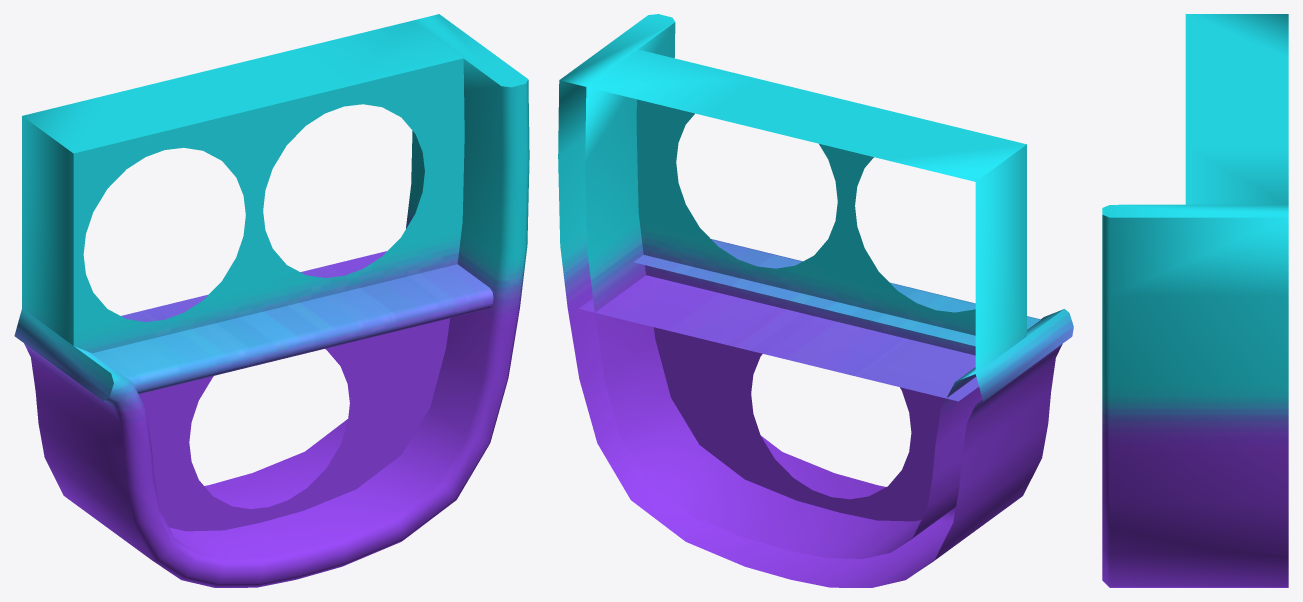
The model's file is AmongUs_Cut_06_0.FBX.
The picture shows the model from 3 angles, left to right: view 1: azimuth 30°, elevation 25°; view 2: azimuth 150°, elevation 25°; view 3: azimuth 270°, elevation 25°; orthographic projection.
Parts seen in each view (by area): view 1: AmongUs_Cut_06_0; view 2: AmongUs_Cut_06_0; view 3: AmongUs_Cut_06_0.
Part boxes in pixels (left/top/right/bottom): AmongUs_Cut_06_0: left=14, top=14, right=529, bottom=587; AmongUs_Cut_06_0: left=558, top=14, right=1073, bottom=587; AmongUs_Cut_06_0: left=1102, top=14, right=1288, bottom=587.
Bounding box in the file's own units: 1.96 × 0.74 × 1.95.
